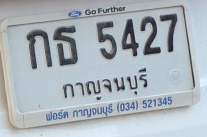txt01: (25, 28, 54, 71)
txt19: (52, 24, 81, 68)
